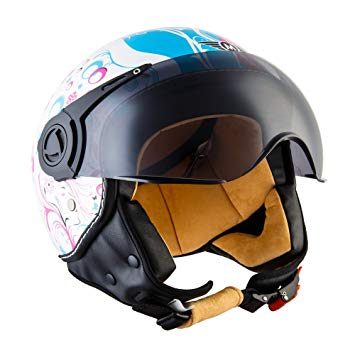with_helmet: (33, 24, 326, 300)
